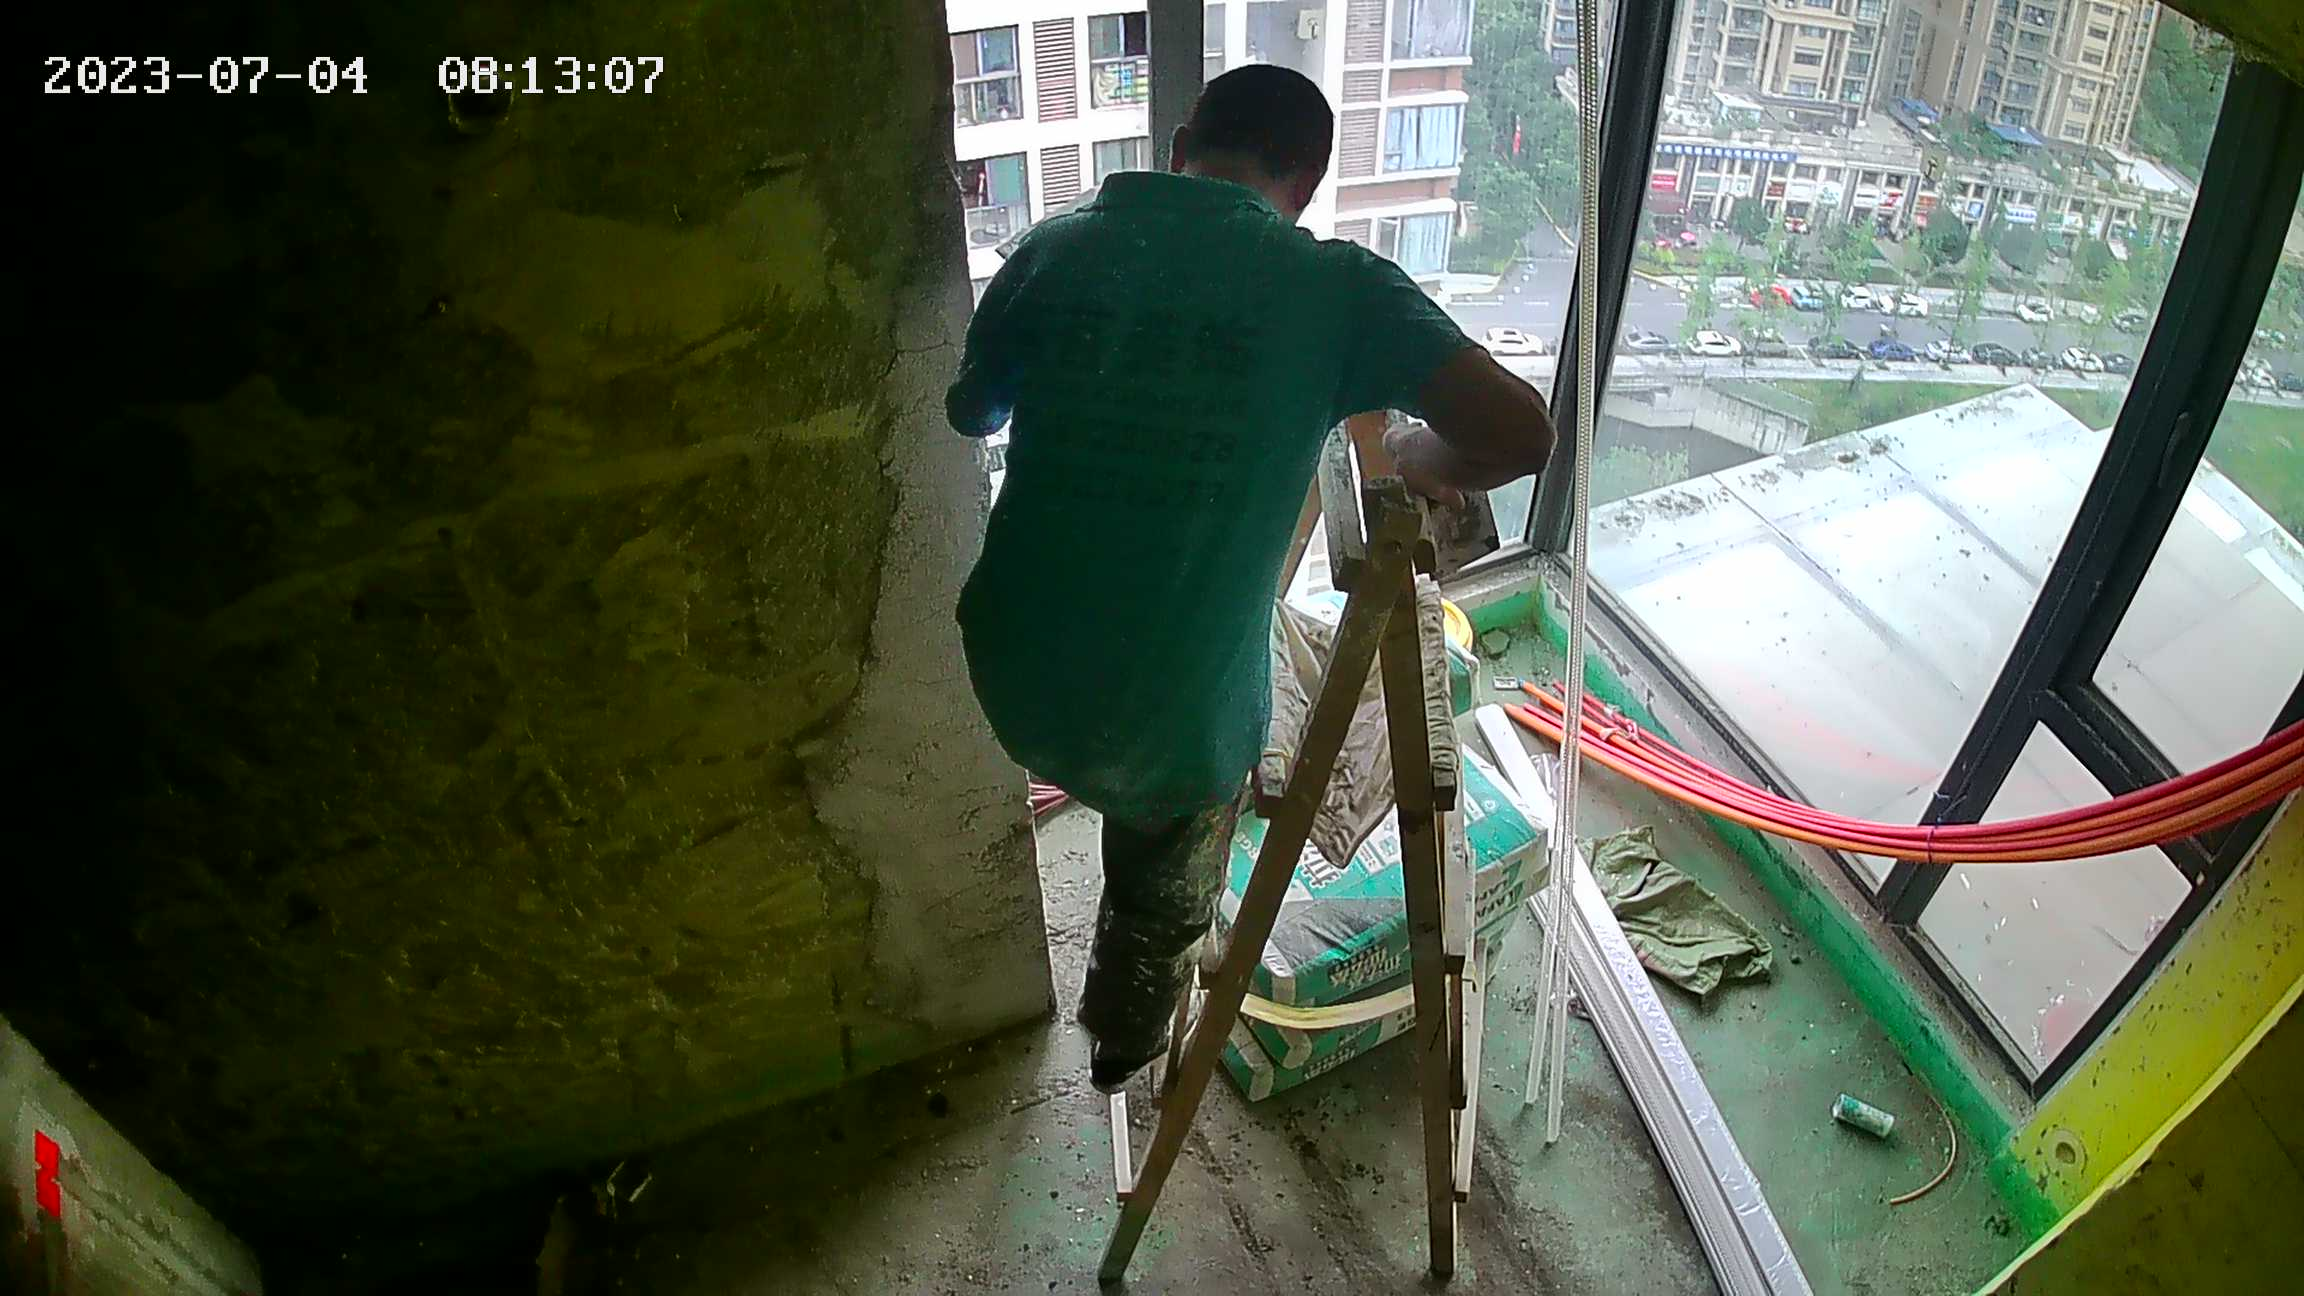people: (941, 59, 1558, 1093)
window: (949, 4, 2298, 1062)
